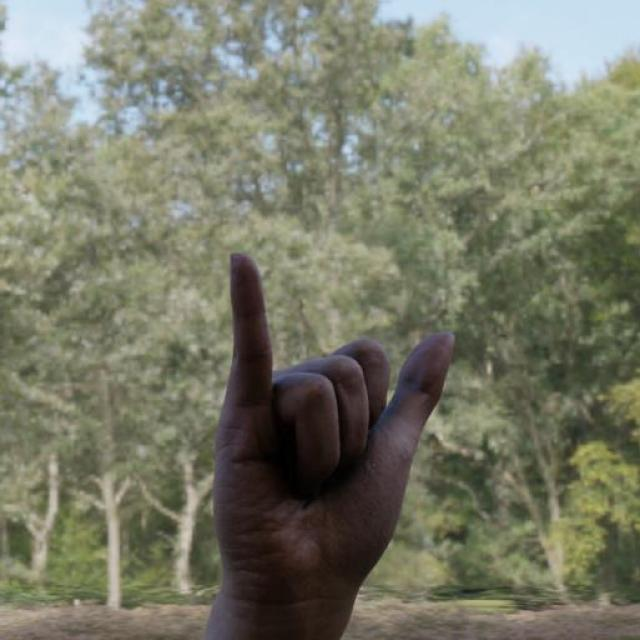Y: (208, 250, 457, 618)
